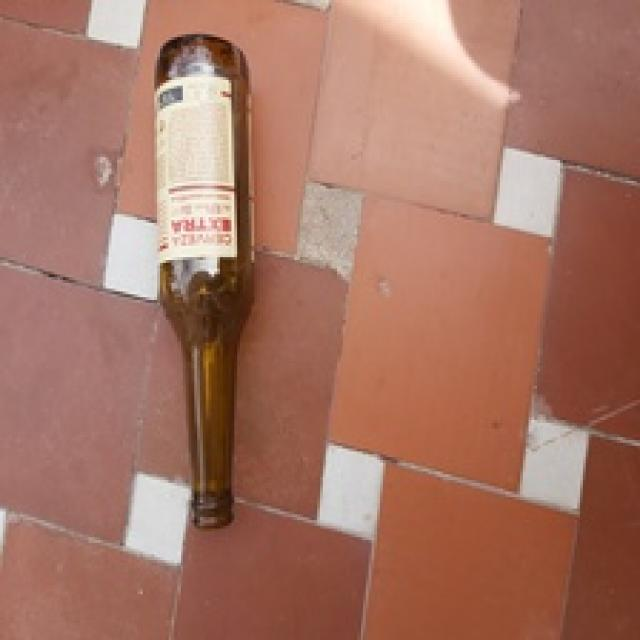glass-bottle: (120, 31, 274, 546)
